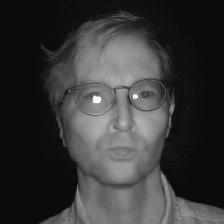sad: (45, 9, 182, 186)
